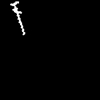double_crochet: (10, 2, 24, 34)
